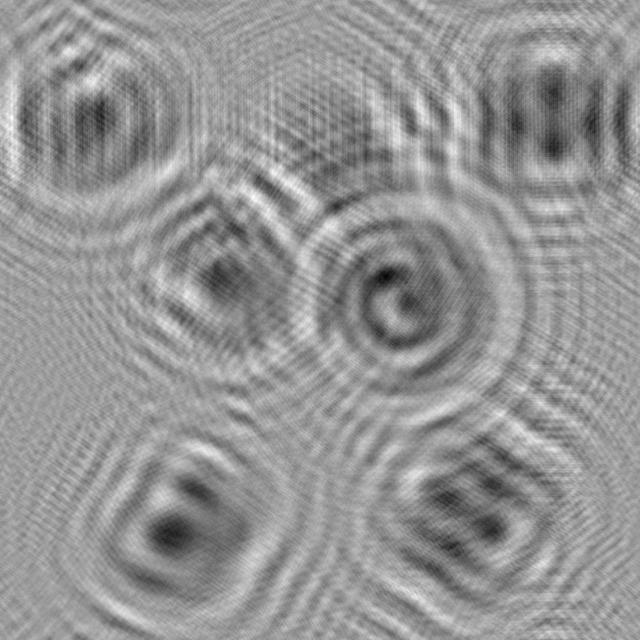F: (47, 390, 331, 640)
G: (267, 157, 536, 429)
H: (324, 368, 617, 640), (415, 0, 640, 251)
I: (211, 24, 457, 249)
J: (87, 130, 349, 408), (0, 0, 226, 230)
